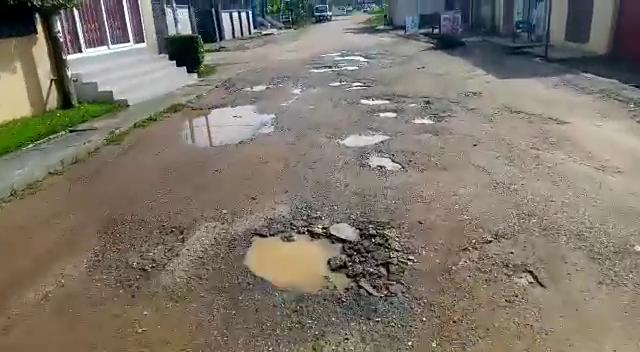pothole: (236, 222, 401, 302), (181, 104, 274, 144), (359, 150, 409, 172), (338, 130, 390, 147), (309, 63, 361, 73), (240, 81, 273, 94), (358, 96, 402, 105), (408, 114, 444, 124), (330, 81, 373, 89), (373, 109, 400, 116)
